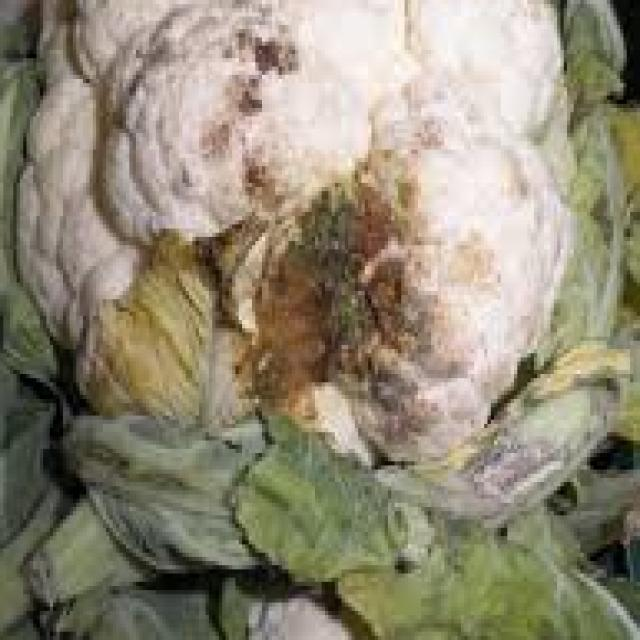inorganic: (8, 6, 624, 623)
